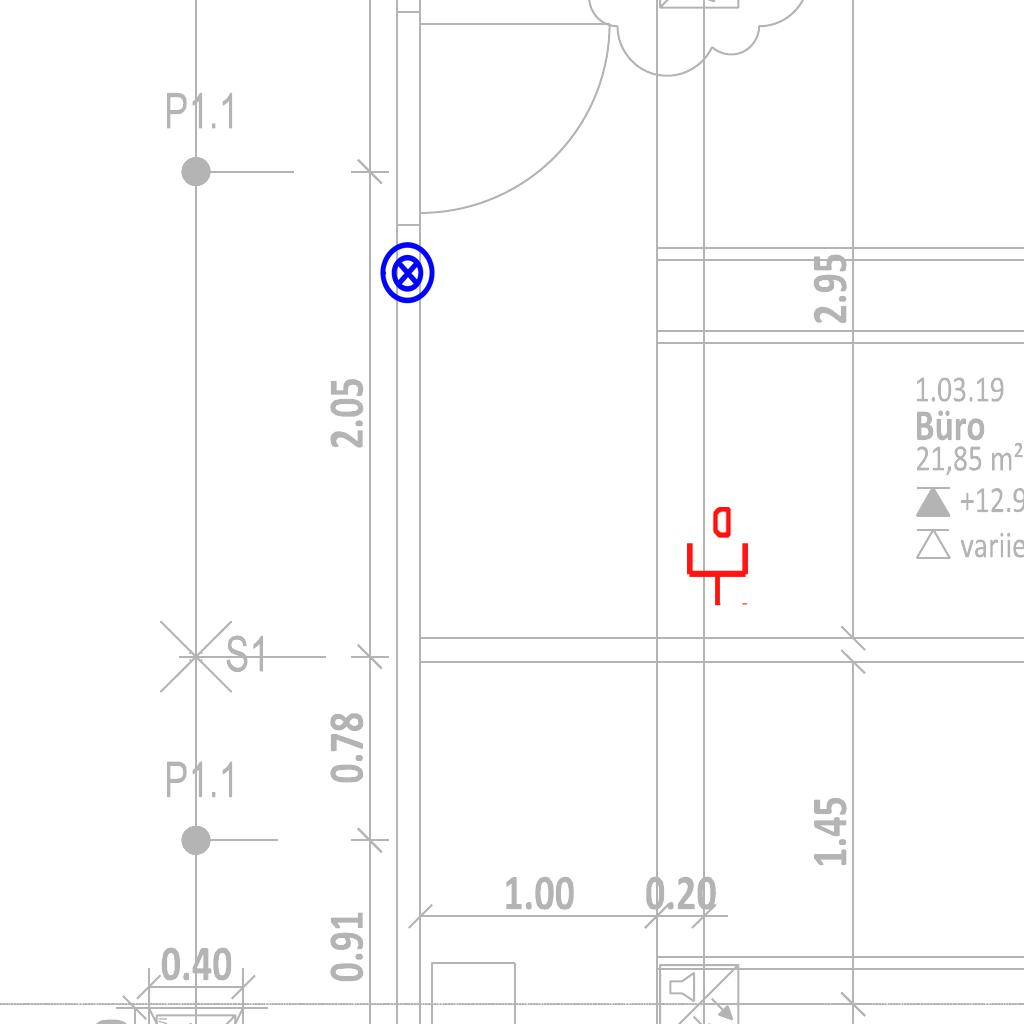Datenanschluss_einfach: (683, 507, 752, 607)
Taster_beleuchtet: (375, 240, 441, 306)
